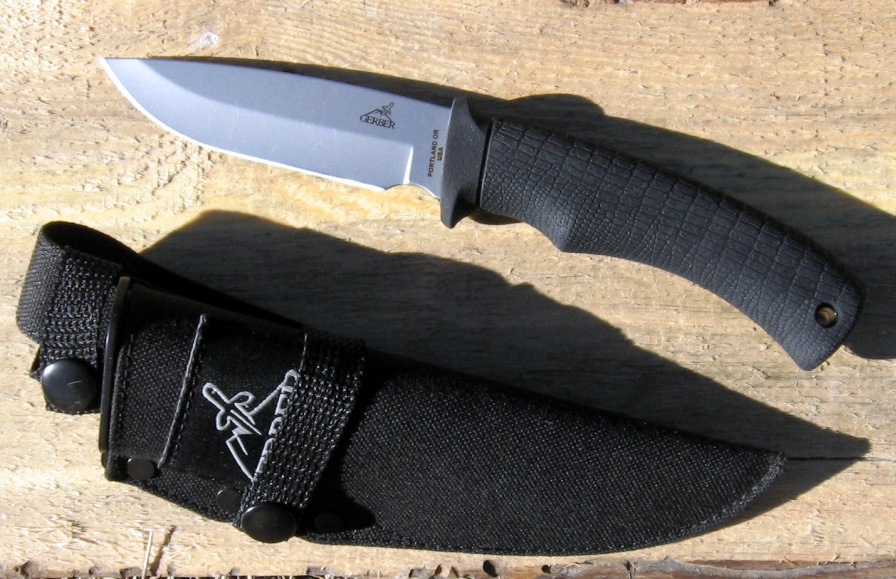knife: (85, 47, 536, 242)
